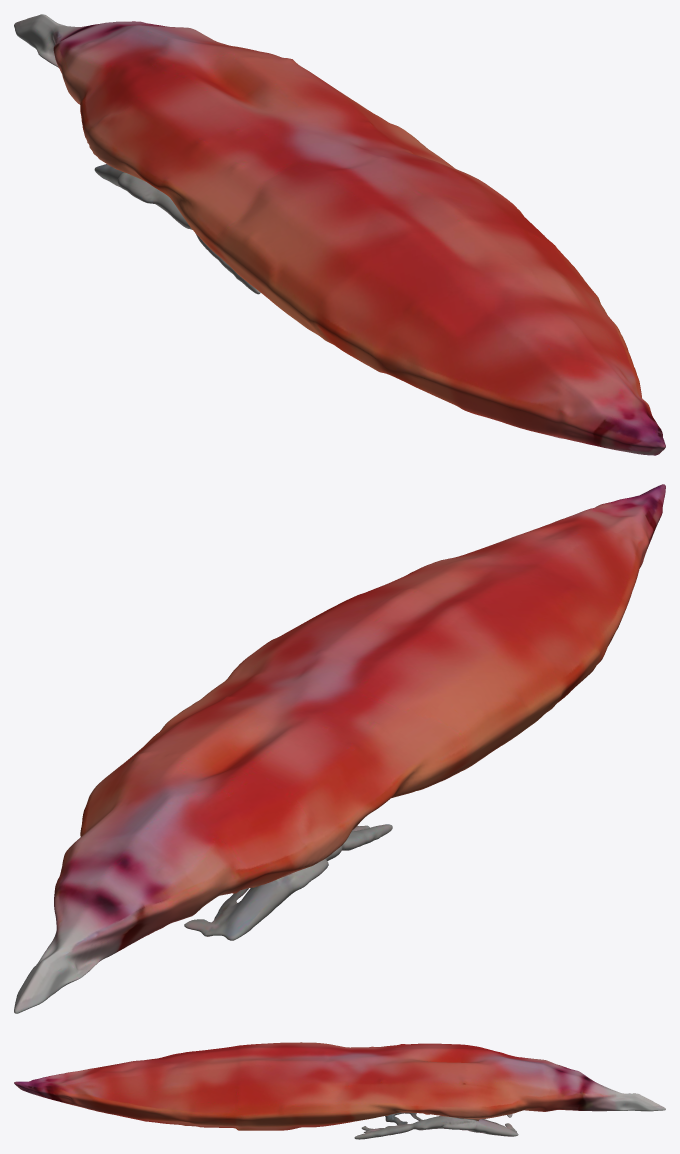
Rendered from food_ruby.glb.
3 views of the same model, one above another, from view 1: azimuth 30°, elevation 25°; view 2: azimuth 150°, elevation 25°; view 3: azimuth 270°, elevation 25° (orthographic). The views are drawn at different scales.
Visible parts, largest first — view 1: tripo_node_4cb40c27; view 2: tripo_node_4cb40c27; view 3: tripo_node_4cb40c27.
Boxes of the visible parts, box(x1,y1,x2,y2) form: tripo_node_4cb40c27: box(14, 14, 665, 455); tripo_node_4cb40c27: box(14, 484, 665, 1013); tripo_node_4cb40c27: box(14, 1042, 665, 1139).
Size of the model in its own units: 22.95 by 11.62 by 99.65.
Materials: 1 (1 with a texture image).
